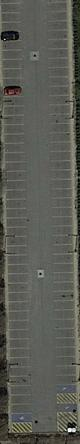parkingspot: (0, 2, 34, 424), (46, 1, 78, 395), (56, 402, 78, 413)
